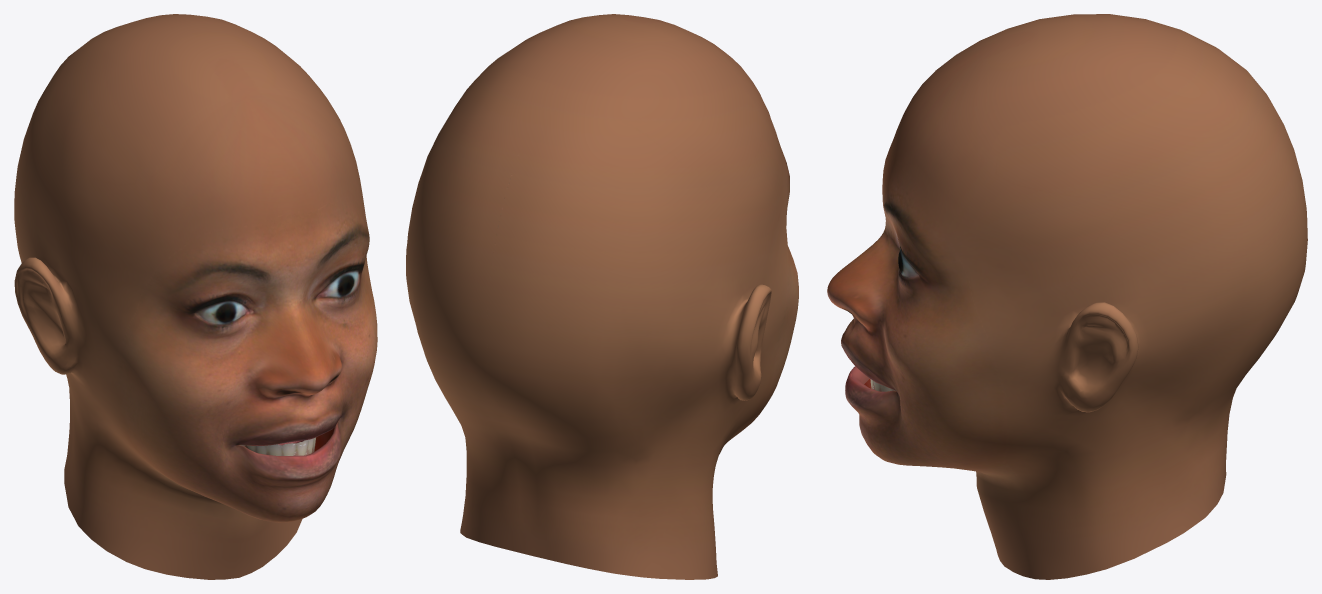
Rendered from v332_obj_PhonemeD,S,T.obj.
The picture shows the model from 3 angles, left to right: view 1: azimuth 30°, elevation 25°; view 2: azimuth 150°, elevation 25°; view 3: azimuth 270°, elevation 25°; orthographic projection. The views are drawn at different scales.
Parts seen in each view (by area): view 1: HeadHires, Mouth; view 2: HeadHires; view 3: HeadHires.
Boxes of the visible parts, x1,y1,x2,y2 form: HeadHires: (14, 14, 377, 579); Mouth: (240, 428, 334, 455); HeadHires: (406, 14, 798, 579); HeadHires: (827, 14, 1307, 579).
Bounding box in the file's own units: 187 × 282 × 233.
